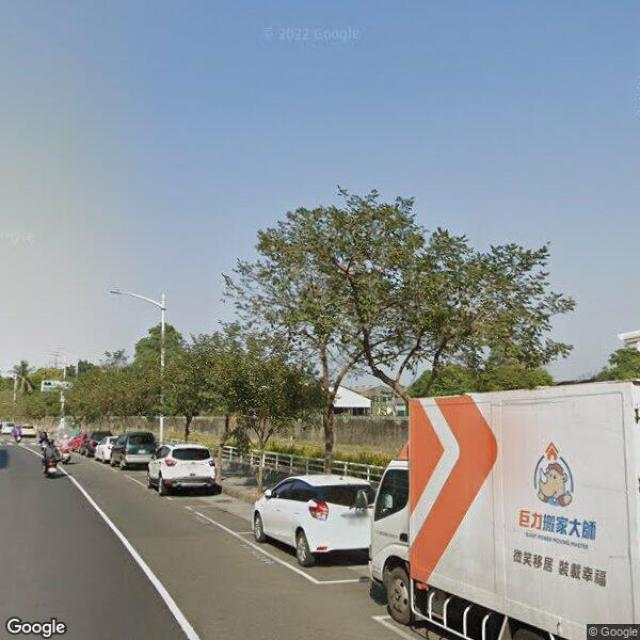Legalparking: (252, 382, 639, 637), (78, 431, 217, 495)
